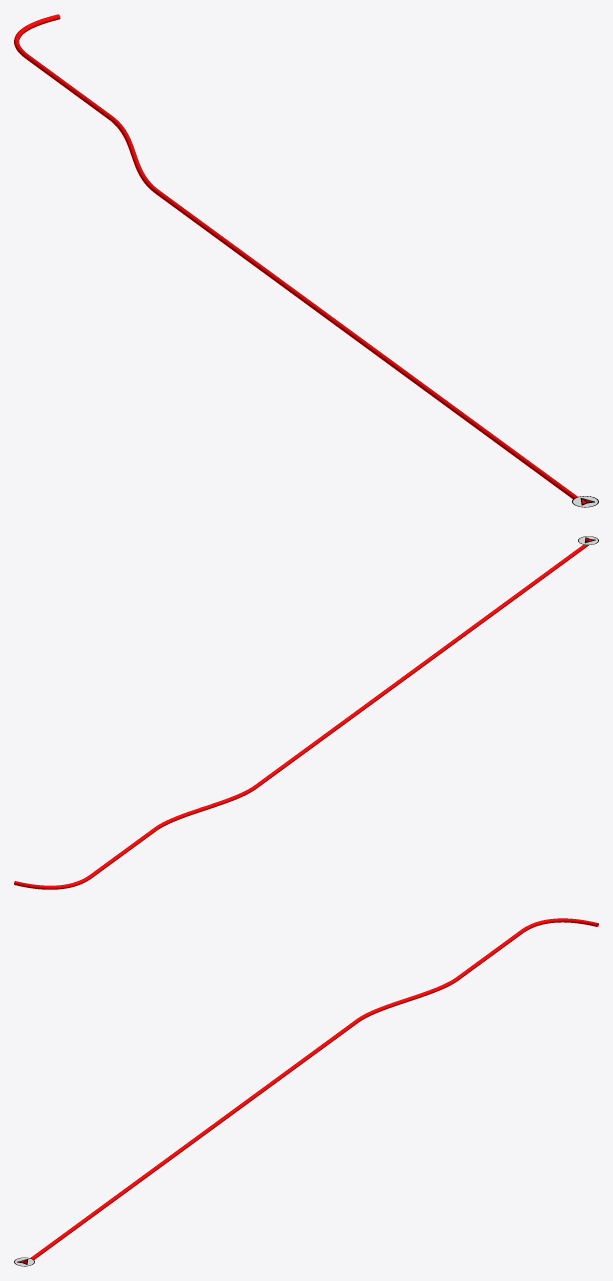
Rendered from route_7202f4c7-5379-4dd8-8466-24377fef3020_de_single.glb.
3 views of the same model, one above another, from view 1: azimuth 30°, elevation 25°; view 2: azimuth 150°, elevation 25°; view 3: azimuth 330°, elevation 25° (orthographic). The views are drawn at different scales.
Parts seen in each view (by area): view 1: Bistro.037; view 2: Bistro.037; view 3: Bistro.037.
Boxes of the visible parts, x1,y1,x2,y2 form: Bistro.037: (14,14,585,507); Bistro.037: (14,544,588,889); Bistro.037: (24,918,598,1266).
Size of the model in its own units: 2.04 by 0.109 by 19.29.
